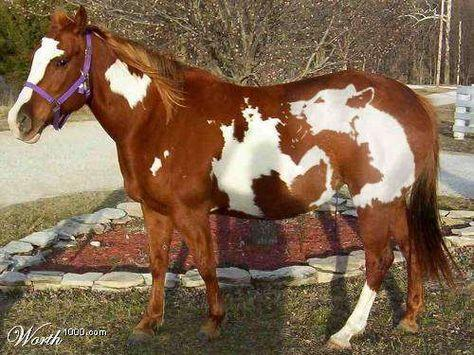horse: (6, 4, 459, 351)
